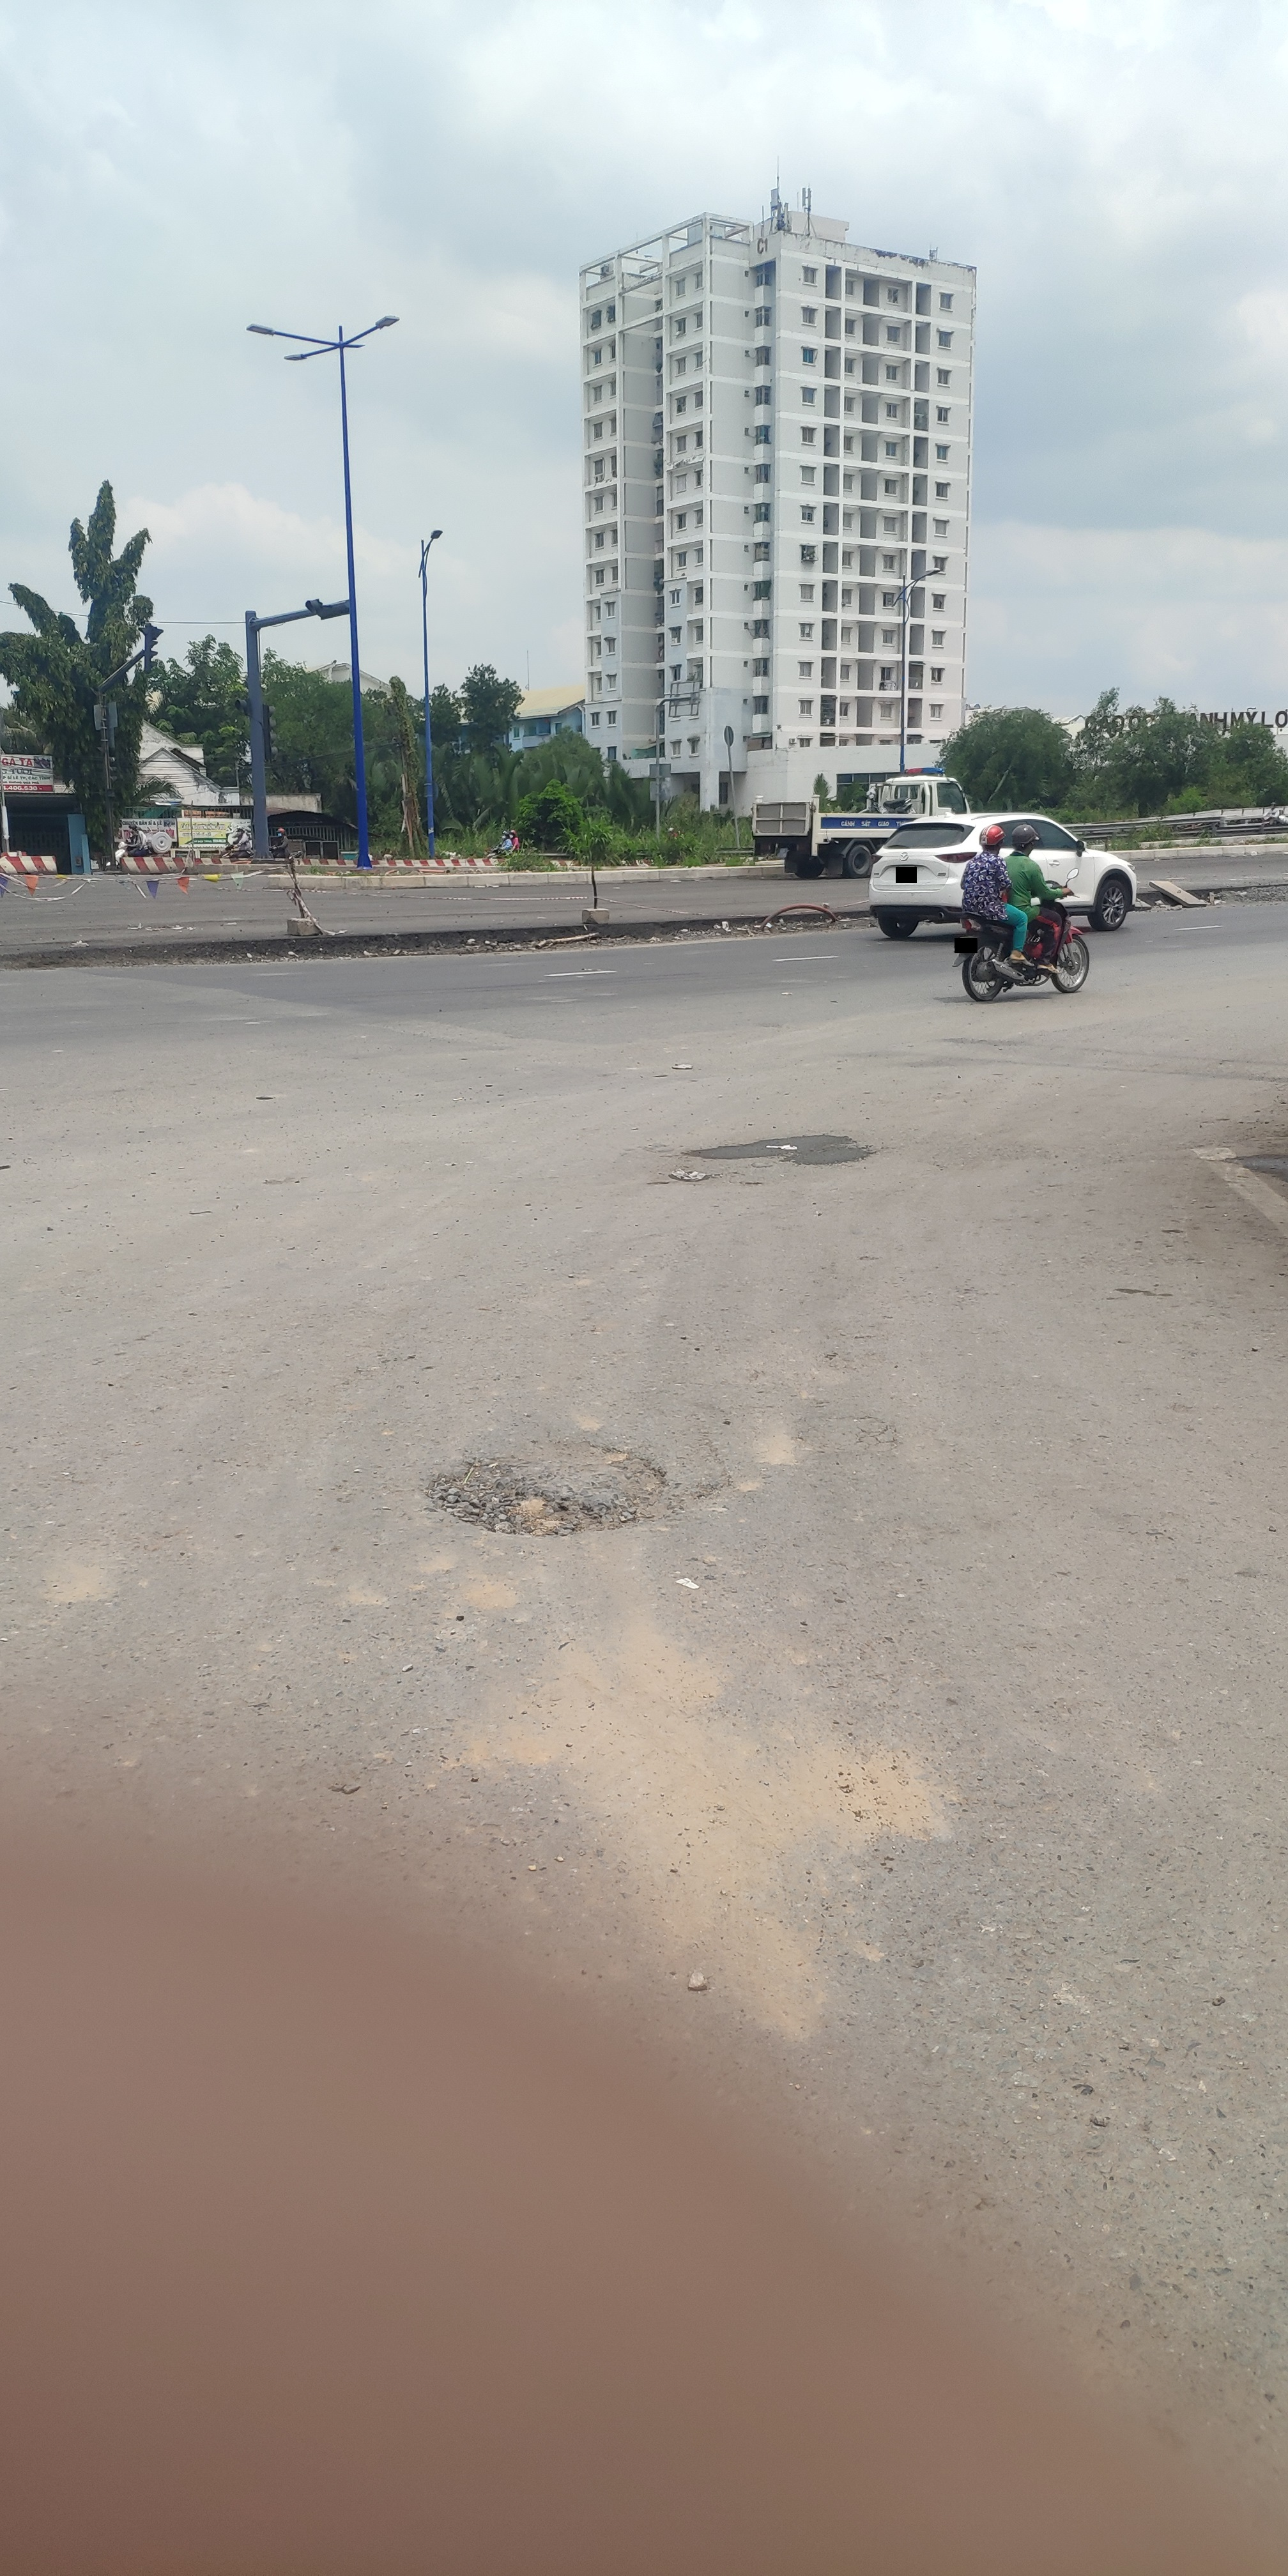hole: (429, 1428, 678, 1546), (687, 1130, 867, 1168)
